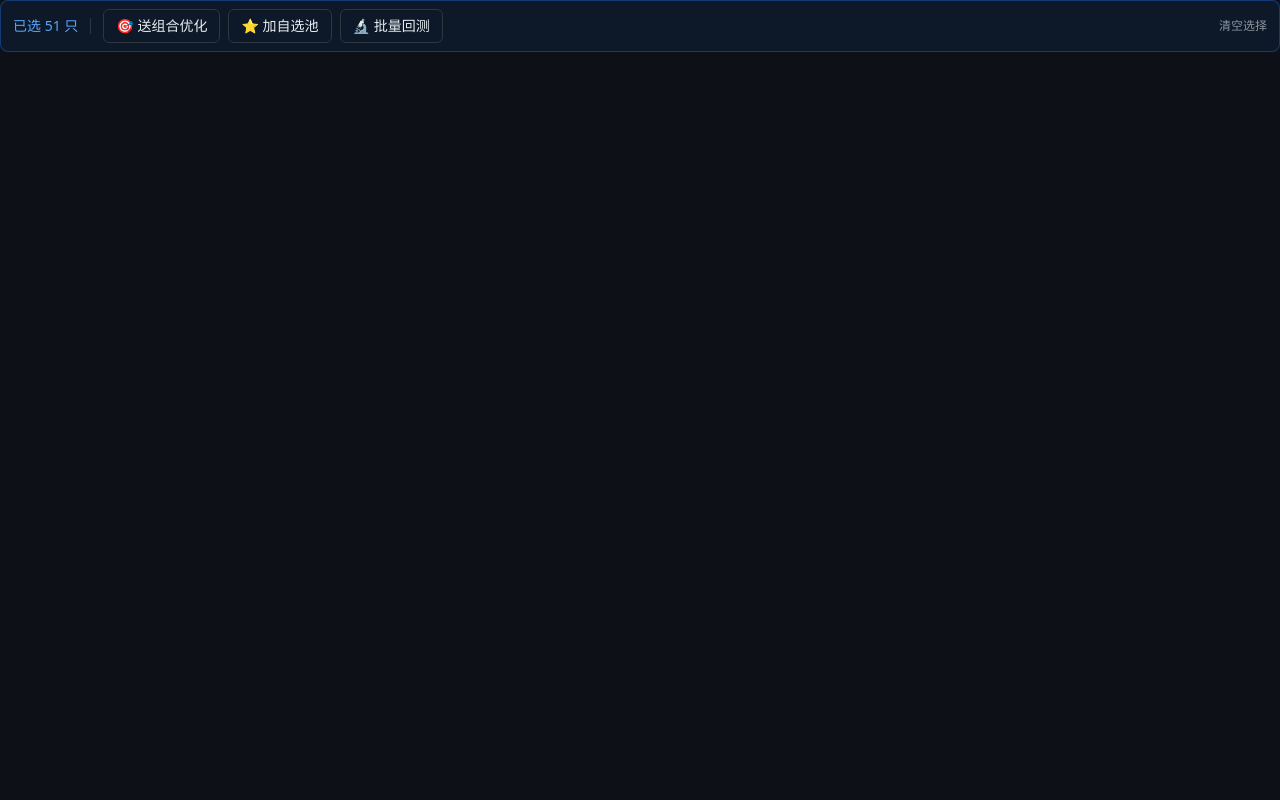
Test case: SelectionActions › blocks batch backtest above the backend cap
The width and height of the screenshot is (1280, 800).
Click the button "🔬 批量回测" at coordinates (391, 26), box [340,9,443,43]
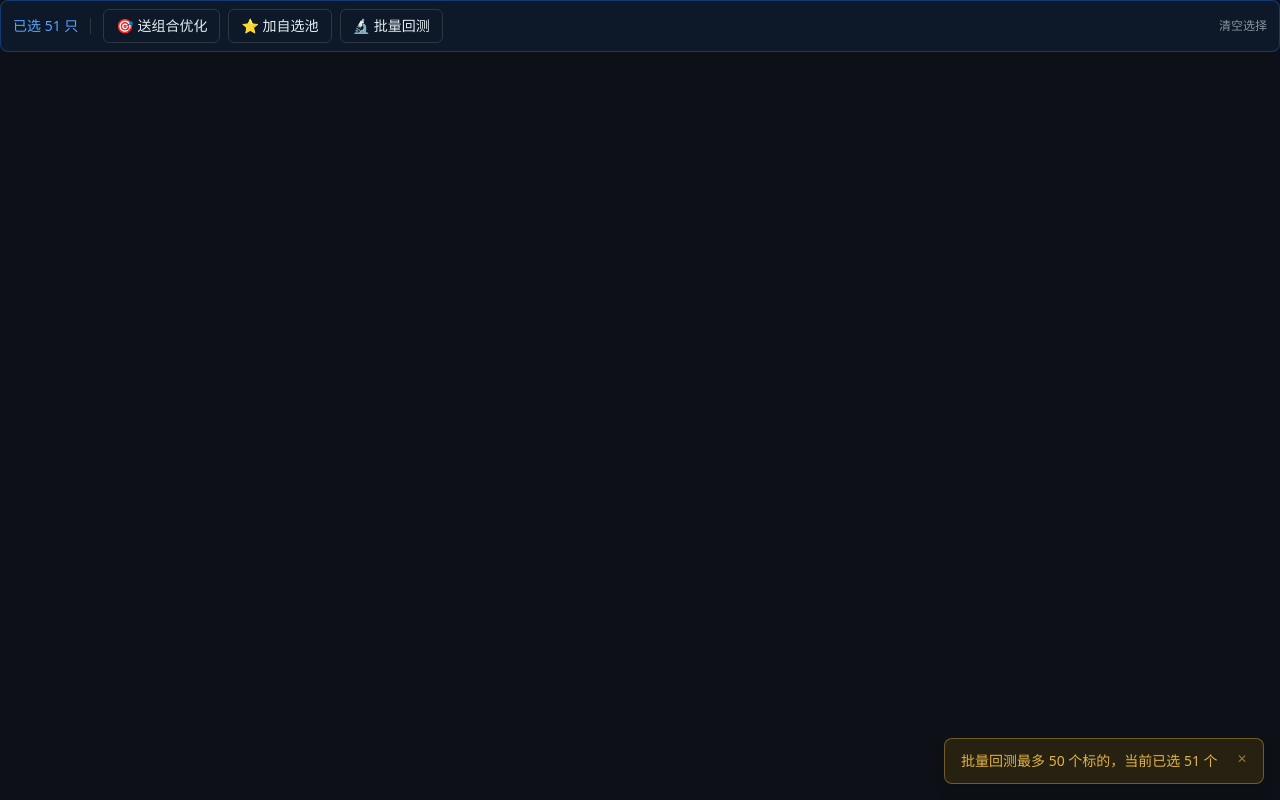
Now the text "批量回测最多 50 个标的，当前已选 51 个" is shown, box [961,751,1225,771]
